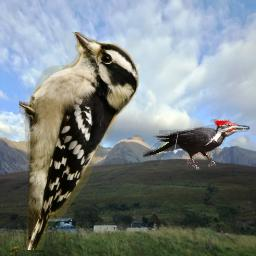Woodpecker: (19, 32, 139, 250), (143, 119, 250, 171)
